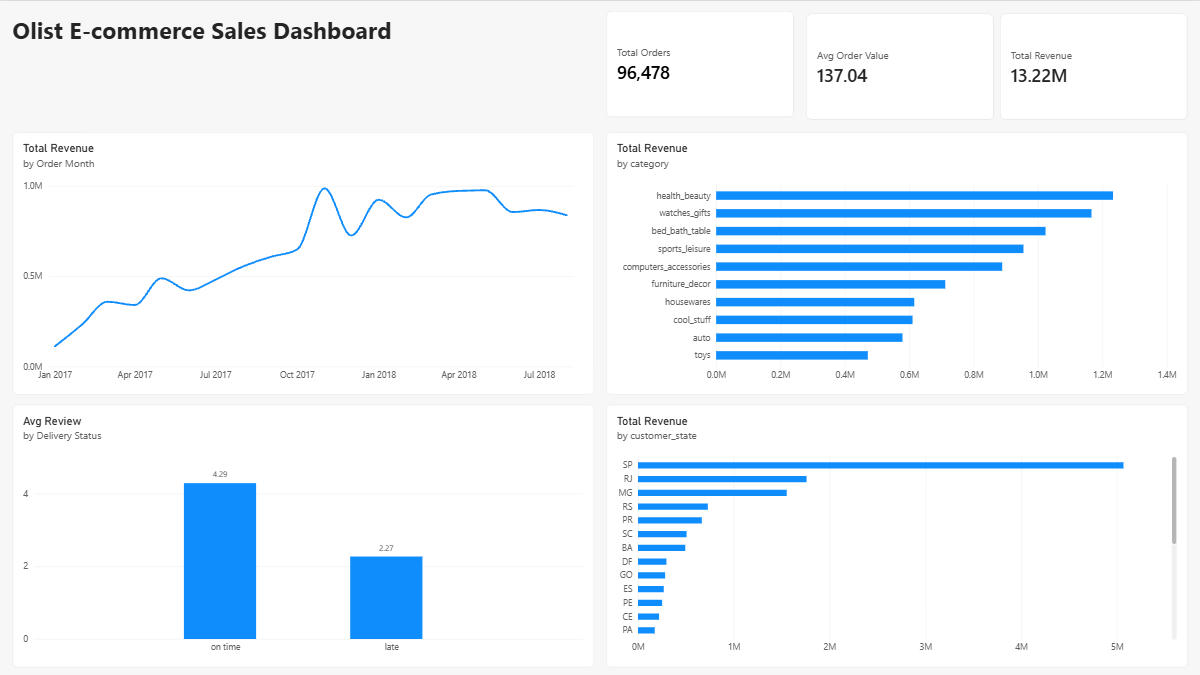

Layout of this report page (visuals, bound fields, positions):
{"tool":"powerbi","page":{"name":"Page 1","canvas":[1920,1080],"ordinal":0},"visuals":[{"type":"clusteredBarChart","fields":{"Category":["sales_analysis.category"],"Y":["sales_analysis.total revenue"]},"box":[970,210,930,420],"z":0},{"type":"clusteredColumnChart","fields":{"Category":["sales_analysis.Delivery Status"],"Y":["sales_analysis.Avg Review"]},"box":[20,645,930,420],"z":3},{"type":"clusteredBarChart","fields":{"Category":["sales_analysis.customer_state"],"Y":["sales_analysis.total revenue"]},"box":[970,645,930,420],"z":4},{"type":"textbox","box":[20,20,930,170],"z":6},{"type":"lineChart","fields":{"Category":["sales_analysis.order month"],"Y":["sales_analysis.total revenue"]},"box":[20,210,930,420],"z":7},{"type":"cardVisual","fields":{"Data":["sales_analysis.total revenue"]},"box":[1600,20,300,170],"z":8},{"type":"cardVisual","fields":{"Data":["sales_analysis.Total Orders Label"]},"box":[970,20,300,170],"z":9},{"type":"cardVisual","fields":{"Data":["sales_analysis.Avg Order Value"]},"box":[1285,20,300,170],"z":10}]}

Visuals, with their boxes in screenshot pixels (x1, y1, x2, y2), scaled from the page's 1920x1080 canvas onto the 1200x675 screenshot:
clusteredBarChart - sales_analysis.category x sales_analysis.total revenue: region(606, 131, 1188, 394)
clusteredColumnChart - sales_analysis.Delivery Status x sales_analysis.Avg Review: region(12, 403, 594, 666)
clusteredBarChart - sales_analysis.customer_state x sales_analysis.total revenue: region(606, 403, 1188, 666)
textbox: region(12, 12, 594, 119)
lineChart - sales_analysis.order month x sales_analysis.total revenue: region(12, 131, 594, 394)
cardVisual - sales_analysis.total revenue: region(1000, 12, 1188, 119)
cardVisual - sales_analysis.Total Orders Label: region(606, 12, 794, 119)
cardVisual - sales_analysis.Avg Order Value: region(803, 12, 991, 119)
